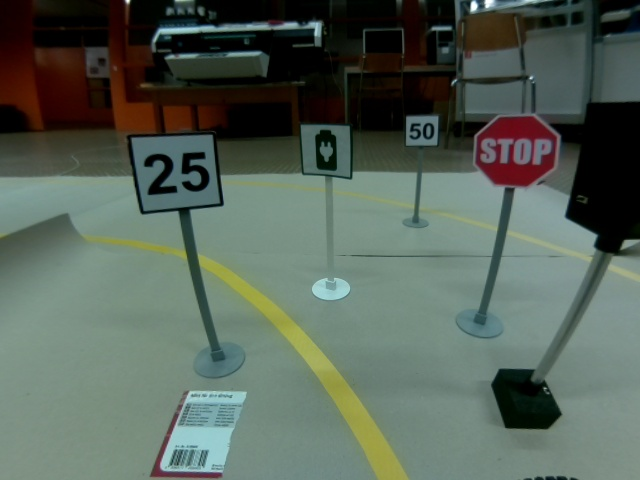battery: (298, 120, 355, 180)
speed25: (126, 131, 226, 213)
speed50: (404, 111, 441, 147)
stop: (472, 113, 563, 192)
traffic light: (564, 100, 640, 243)
